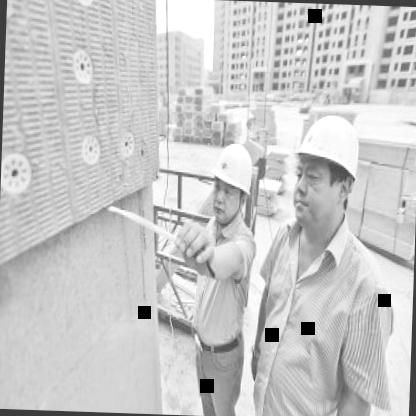helmet: (284, 99, 372, 245), (209, 138, 256, 225)
